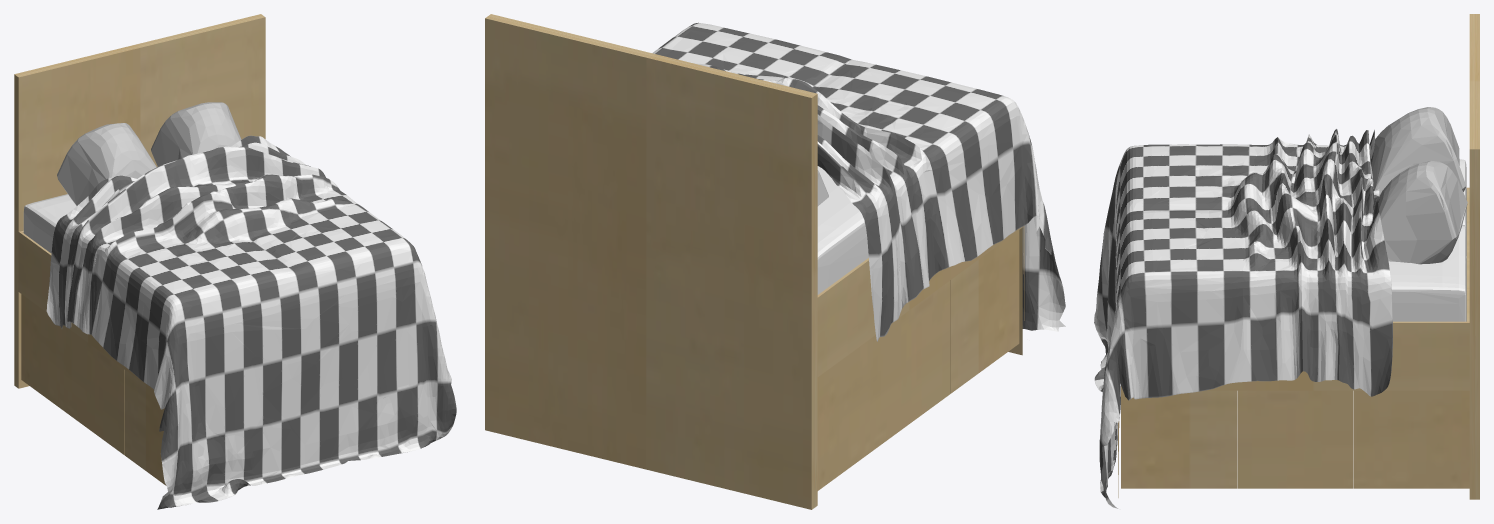
Rendered from sh-bs0-bed-with-texture.glb.
3 views of the same model, side by side, from view 1: azimuth 30°, elevation 25°; view 2: azimuth 150°, elevation 25°; view 3: azimuth 270°, elevation 25° (orthographic). The views are drawn at different scales.
Parts seen in each view (by area): view 1: blanket_Plane.003, bed_frame_Cube, pillow_Cube.003, matress_Cube.001; view 2: bed_frame_Cube, blanket_Plane.003, matress_Cube.001; view 3: blanket_Plane.003, bed_frame_Cube, pillow_Cube.003, matress_Cube.001.
Part boxes in pixels (box(x1,y1,x2,y2)): blanket_Plane.003: box(46, 135, 456, 509); bed_frame_Cube: box(14, 14, 265, 485); pillow_Cube.003: box(57, 102, 241, 205); matress_Cube.001: box(23, 194, 76, 253); bed_frame_Cube: box(485, 14, 1024, 509); blanket_Plane.003: box(652, 22, 1065, 341); matress_Cube.001: box(817, 166, 868, 294); blanket_Plane.003: box(1094, 129, 1392, 508); bed_frame_Cube: box(1118, 14, 1479, 499); pillow_Cube.003: box(1371, 107, 1467, 264); matress_Cube.001: box(1388, 159, 1466, 321).
Size of the model in its own units: 1 by 1 by 0.9984.
Materials: 4 (2 with a texture image).
